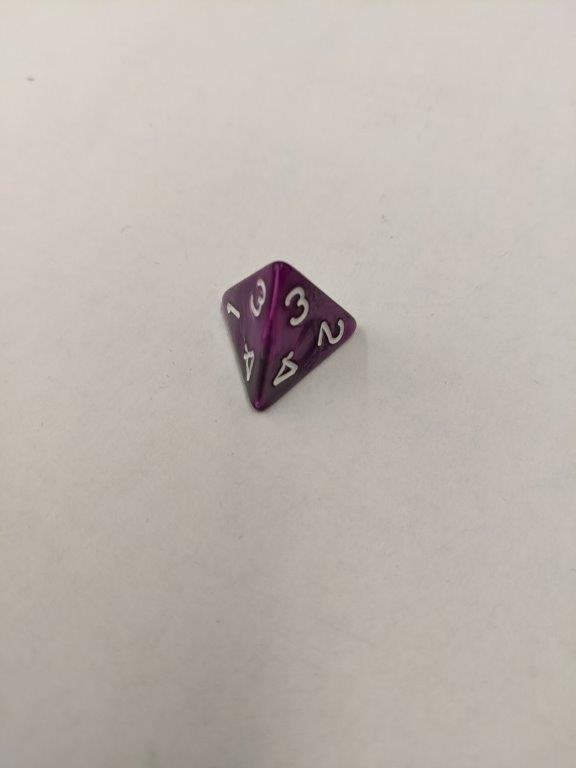d4-3: (220, 254, 361, 416)
